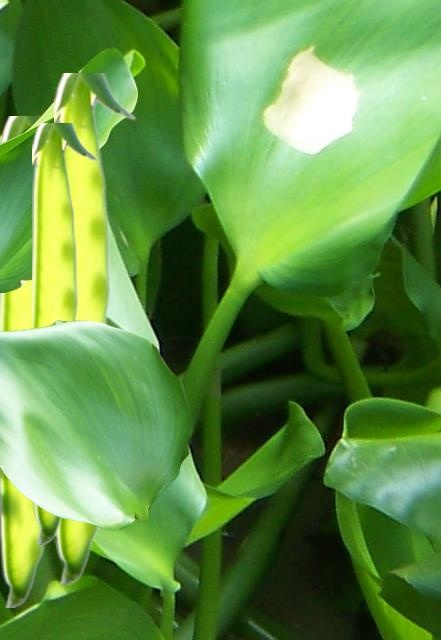pea: (54, 73, 135, 583), (32, 123, 98, 543), (0, 116, 46, 606)
